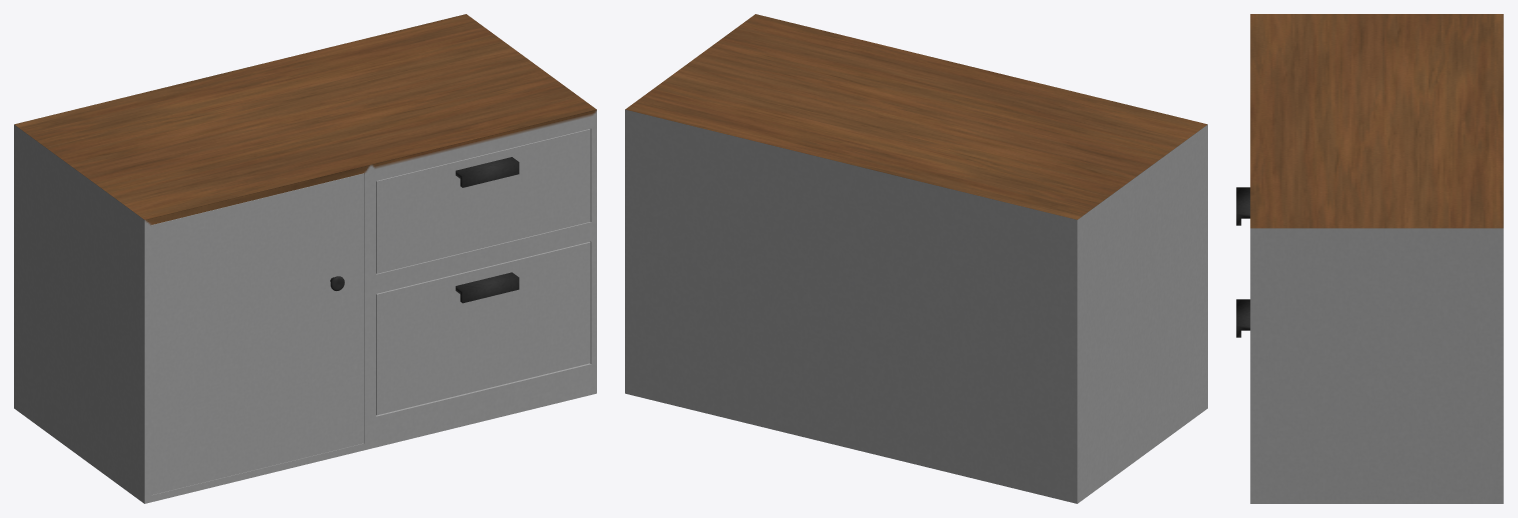
The model's file is Komode.fbx.
The picture shows the model from 3 angles, left to right: view 1: azimuth 30°, elevation 25°; view 2: azimuth 150°, elevation 25°; view 3: azimuth 270°, elevation 25°; orthographic projection. The views are drawn at different scales.
Parts seen in each view (by area): view 1: Komode_1, Tür, Schublade_groß, Schublade_klein, Griff_3, Griff_2; view 2: Komode_1; view 3: Komode_1, Griff_2, Griff_3.
Part boxes in pixels (x1,y1,x2,y2): Komode_1: (14,14,596,503); Tür: (151,173,363,494); Schublade_groß: (376,242,590,415); Schublade_klein: (376,129,590,273); Griff_3: (455,272,519,303); Griff_2: (455,157,519,187); Komode_1: (625,14,1207,503); Komode_1: (1250,14,1503,503); Griff_2: (1236,187,1250,225); Griff_3: (1236,299,1250,337).
Size of the model in its own units: 200 by 120 by 106.
Materials: 1 (1 with a texture image).
